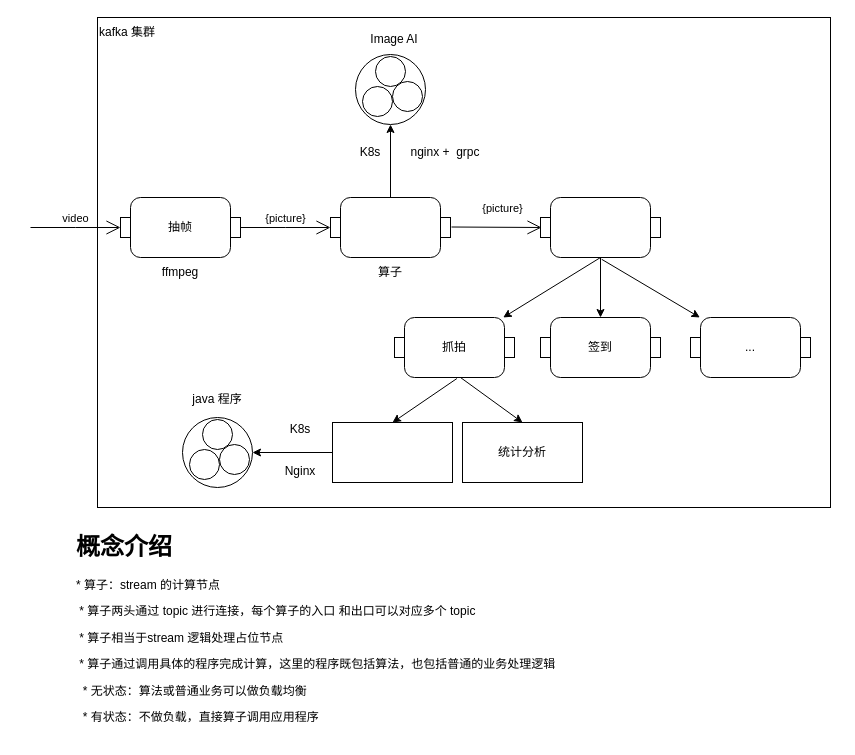
The diagram is 855 pixels wide and 755 high, and some of its shapes have lost their labels. The shapes that lost their labels are listed below. From the top down, each one's box as (x1, y1, x2, y2) in pixels, then its label:
(330, 196, 450, 258): 人脸识别
(540, 196, 660, 258): 人脸比对
(332, 422, 452, 482): 记录处理结果
